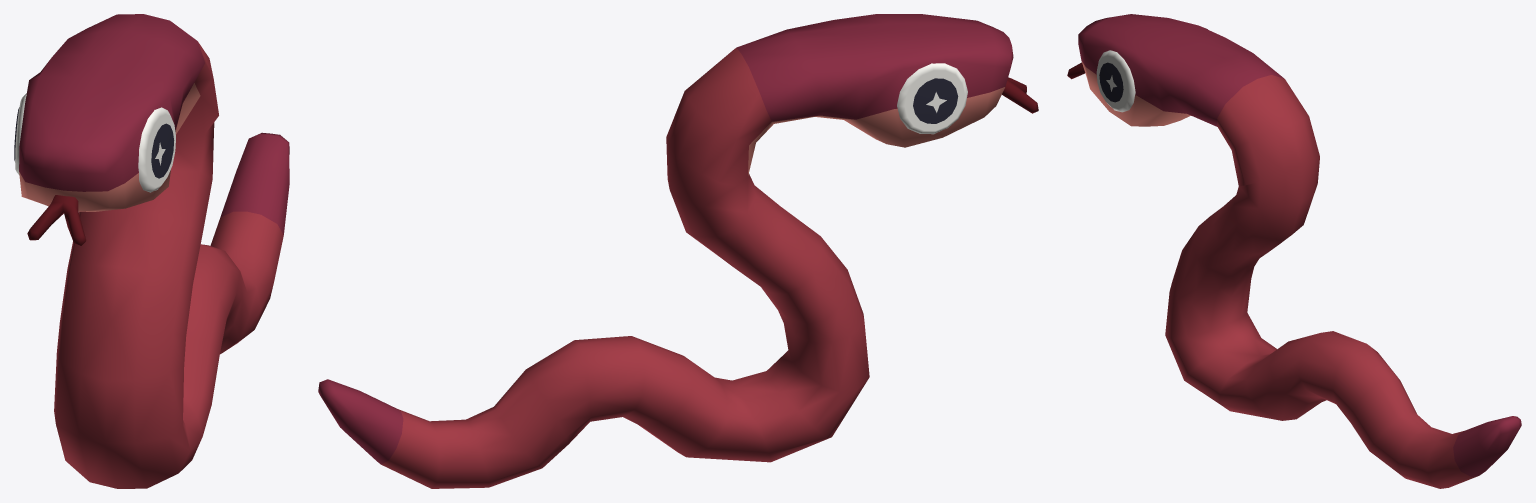
Rendered from Snake.glb.
3 renders of one model, left to right at view 1: azimuth 30°, elevation 25°; view 2: azimuth 150°, elevation 25°; view 3: azimuth 270°, elevation 25°, orthographic. The views are drawn at different scales.
Parts seen in each view (by area): view 1: Taipan_LOD1.005; view 2: Taipan_LOD1.005; view 3: Taipan_LOD1.005.
Part boxes in pixels (x1,y1,x2,y2): Taipan_LOD1.005: [14, 14, 289, 488]; Taipan_LOD1.005: [318, 14, 1038, 488]; Taipan_LOD1.005: [1067, 14, 1521, 488].
Size of the model in its own units: 0.9171 by 0.7614 by 0.9171.
1 material, 1 textured.
